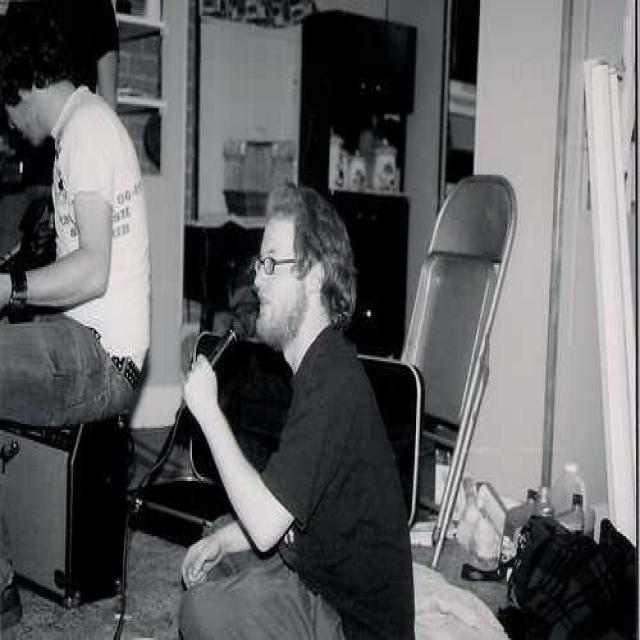microphone: (187, 294, 259, 410), (171, 322, 240, 434)
